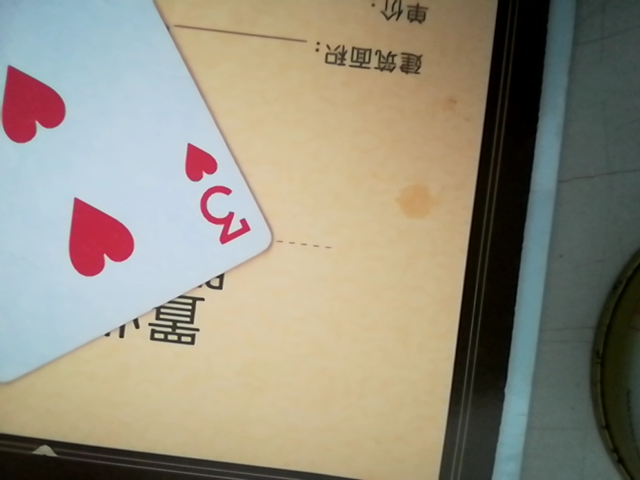hx 3: (3, 0, 267, 387)
